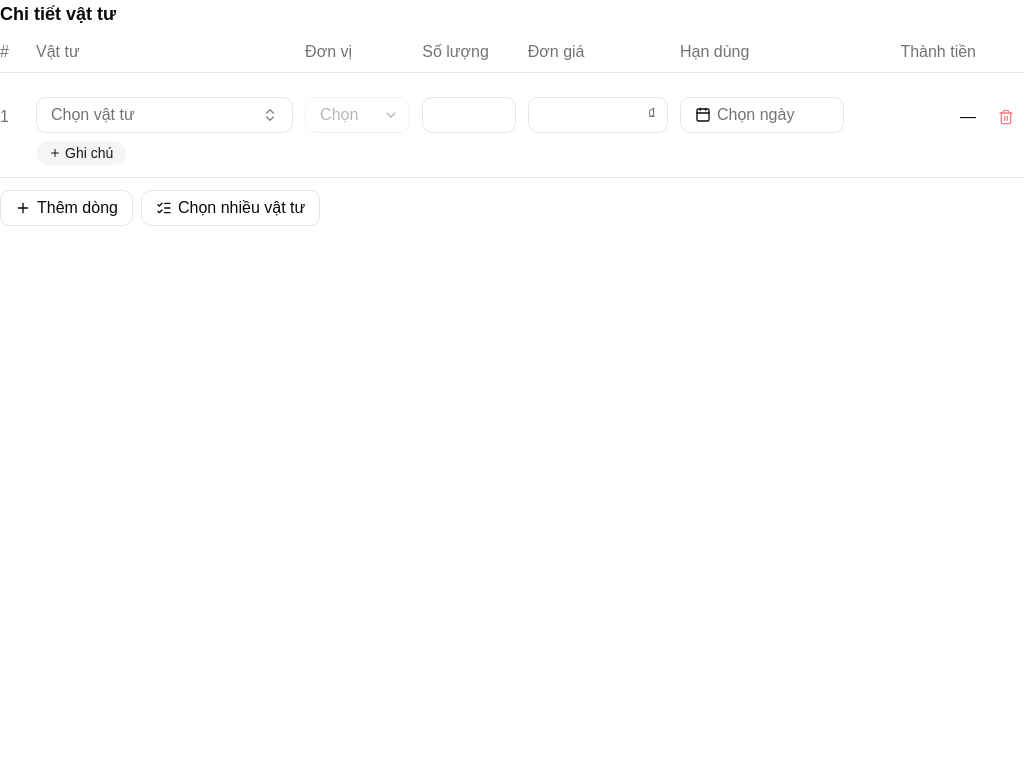
Test: ImportFormItemsField › chưa có bên bán hiệu lực → một nhóm, không tiêu đề
Click the dropdown named "Vật tư dòng 1": (165, 115) [36,97,293,133]
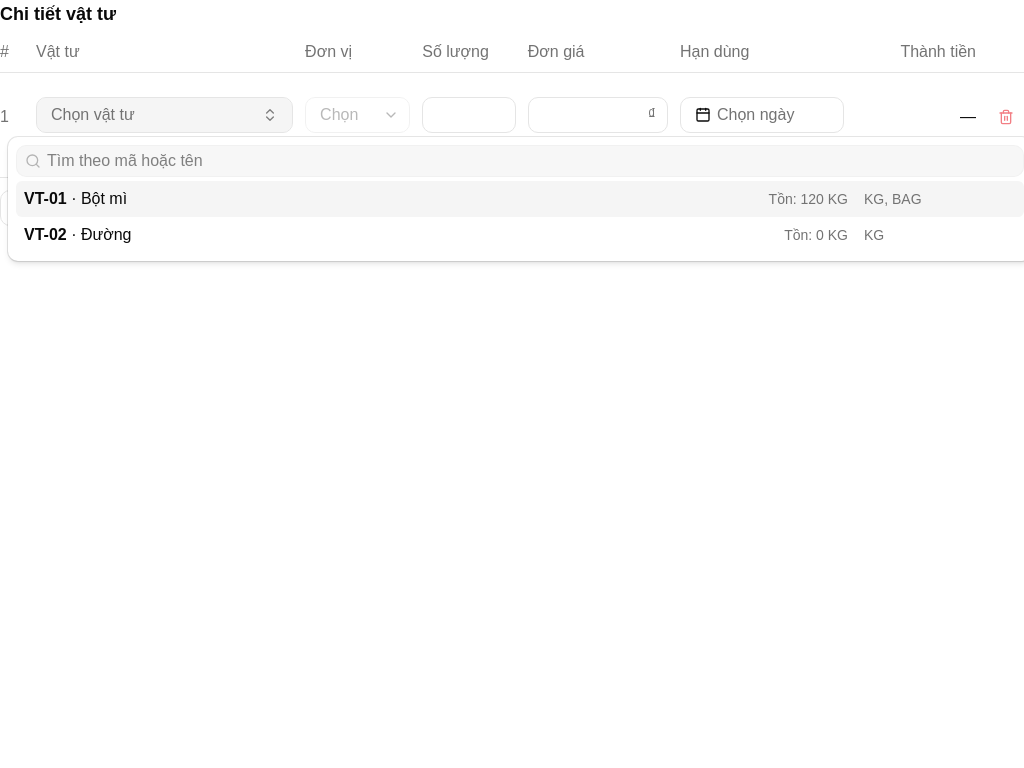
Result: the number of options is 2 at [16,181,1023,217]; [24,226,884,243]
